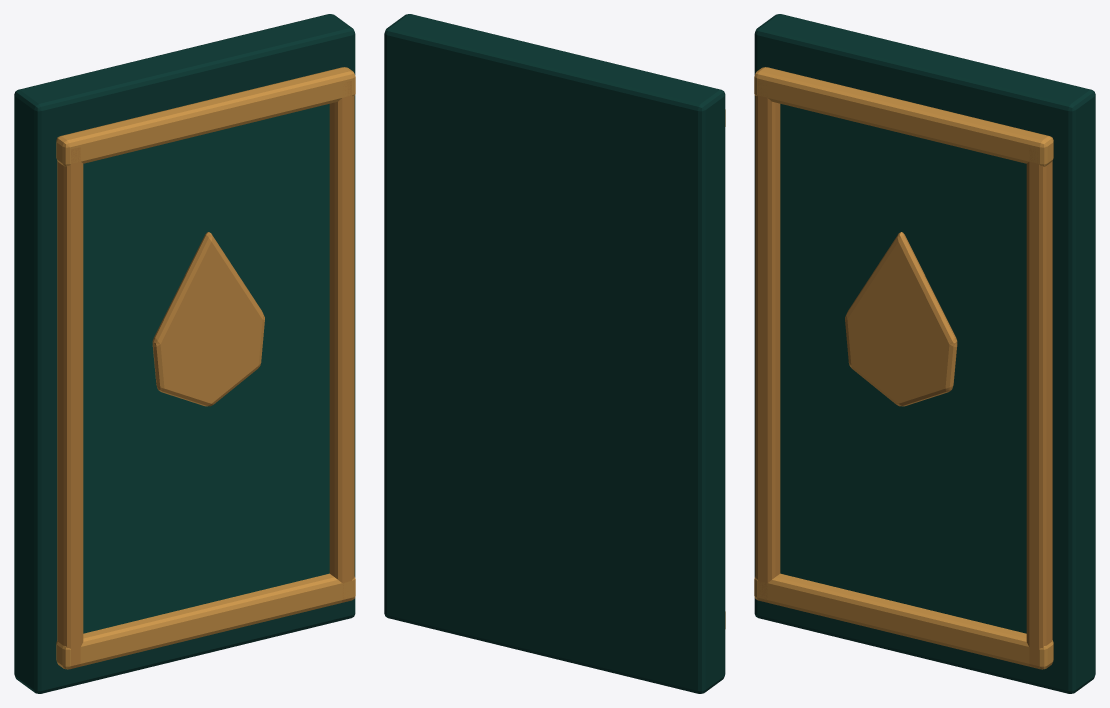
File: ColonyDoorRight.fbx
3 renders of one model, left to right at view 1: azimuth 30°, elevation 25°; view 2: azimuth 150°, elevation 25°; view 3: azimuth 330°, elevation 25°, orthographic.
Parts seen in each view (by area): view 1: ColonyDoorRight; view 2: ColonyDoorRight; view 3: ColonyDoorRight.
Boxes of the visible parts, x1,y1,x2,y2 form: ColonyDoorRight: (14,14,355,693); ColonyDoorRight: (384,14,725,693); ColonyDoorRight: (754,14,1095,693).
Bounding box in the file's own units: 1.49 × 2.62 × 0.315.
